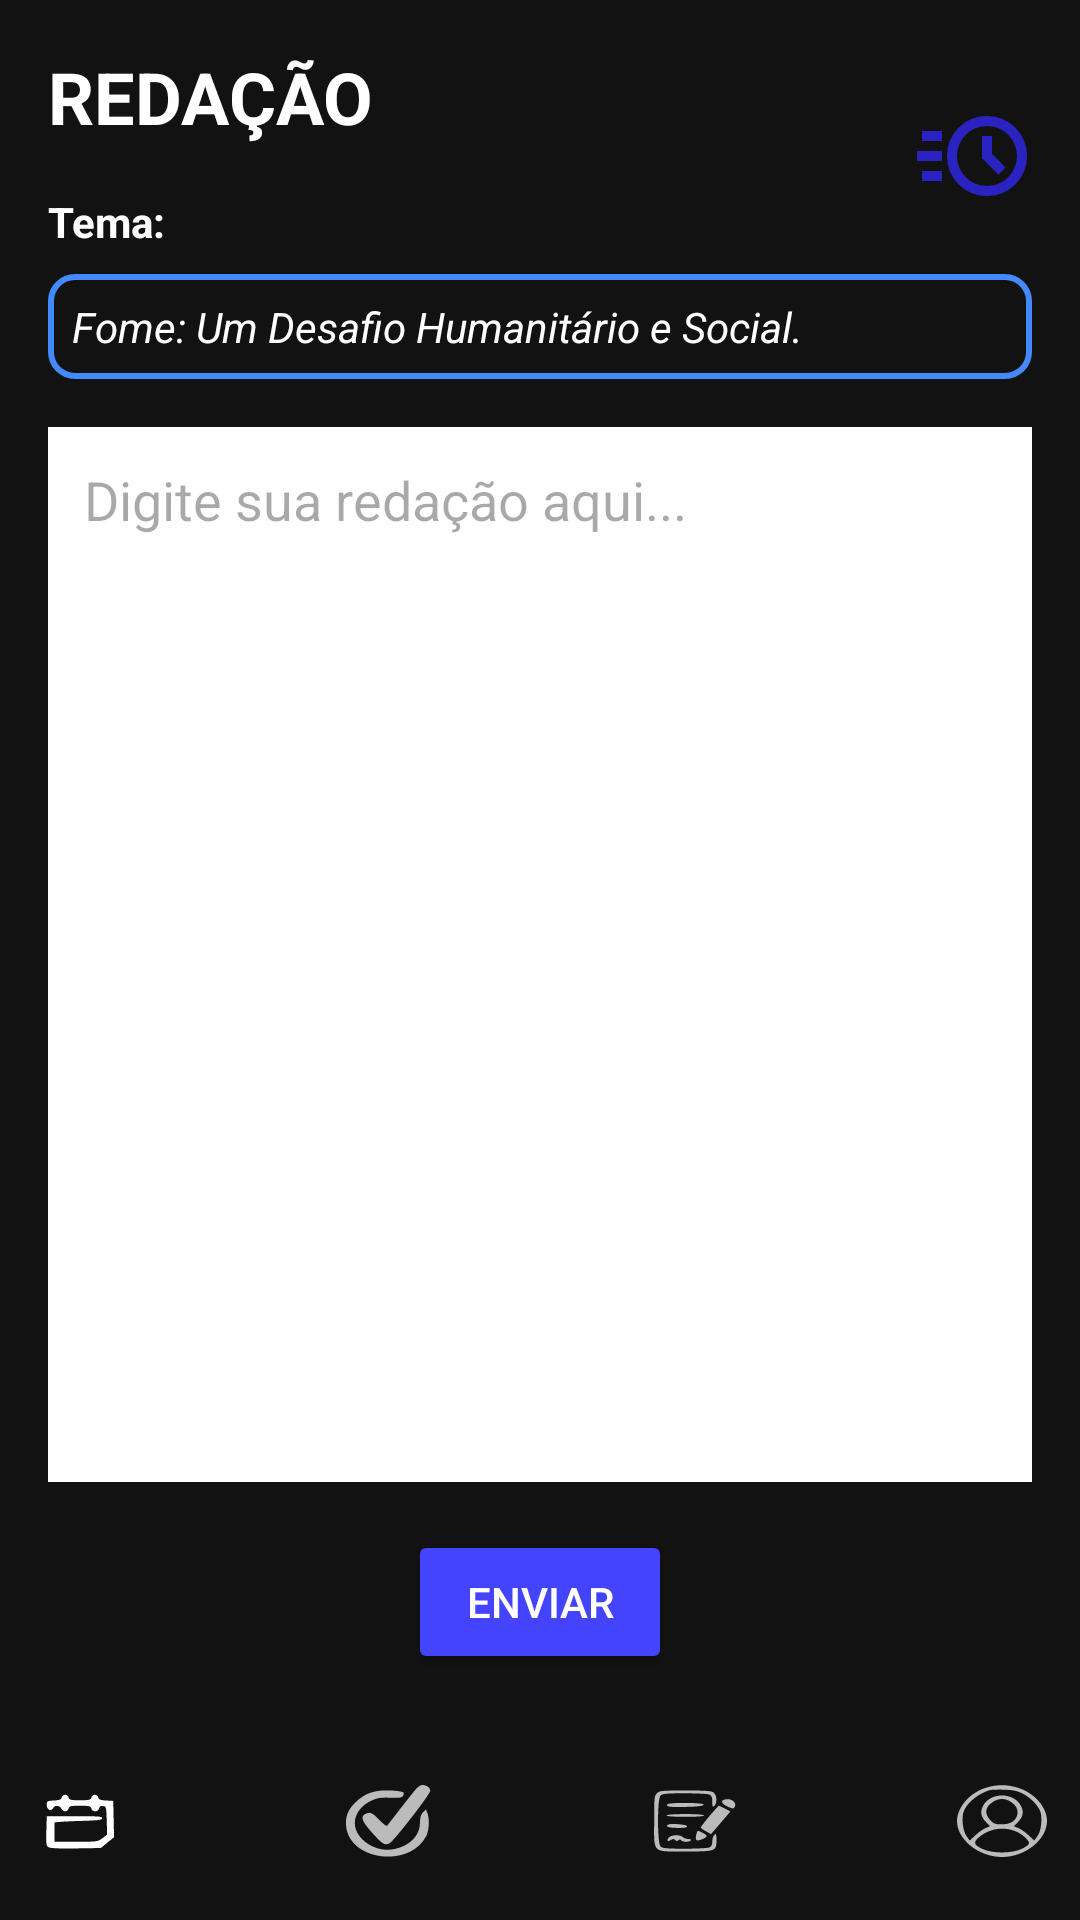

Where icons sit on this 1080x1920 app screen, as (x1, y1, x2, y2):
Ver histórico: (917, 116, 1027, 196)
